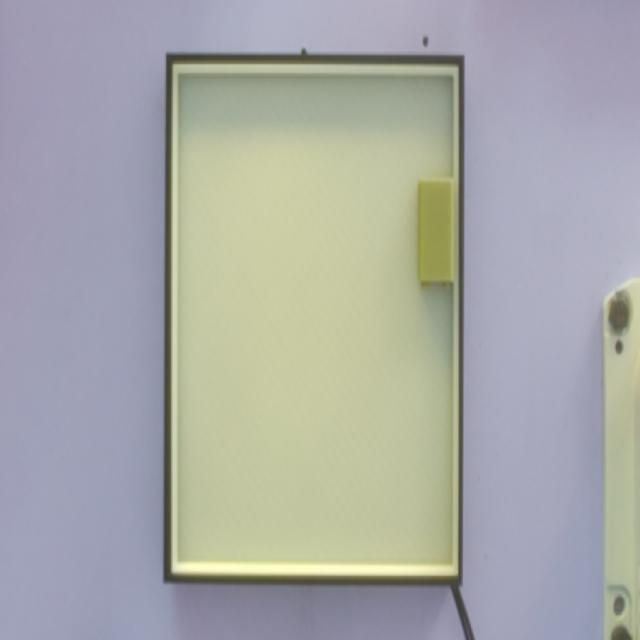bateria: (417, 182, 455, 291)
mesa: (163, 53, 465, 586)
